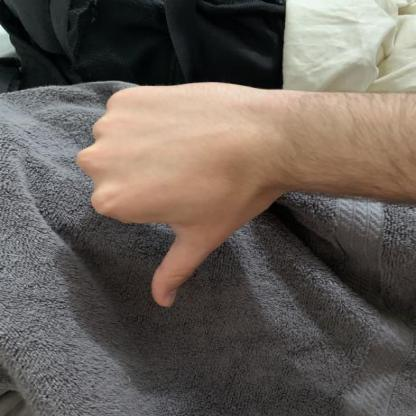Thumbs-Down: (69, 70, 377, 311)
